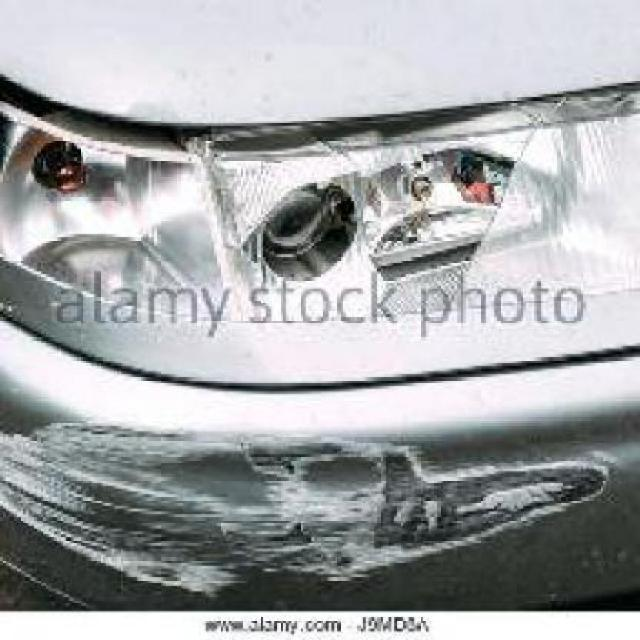damaged-head-light: (0, 100, 637, 380)
dent-or-scratch: (8, 412, 597, 598)
